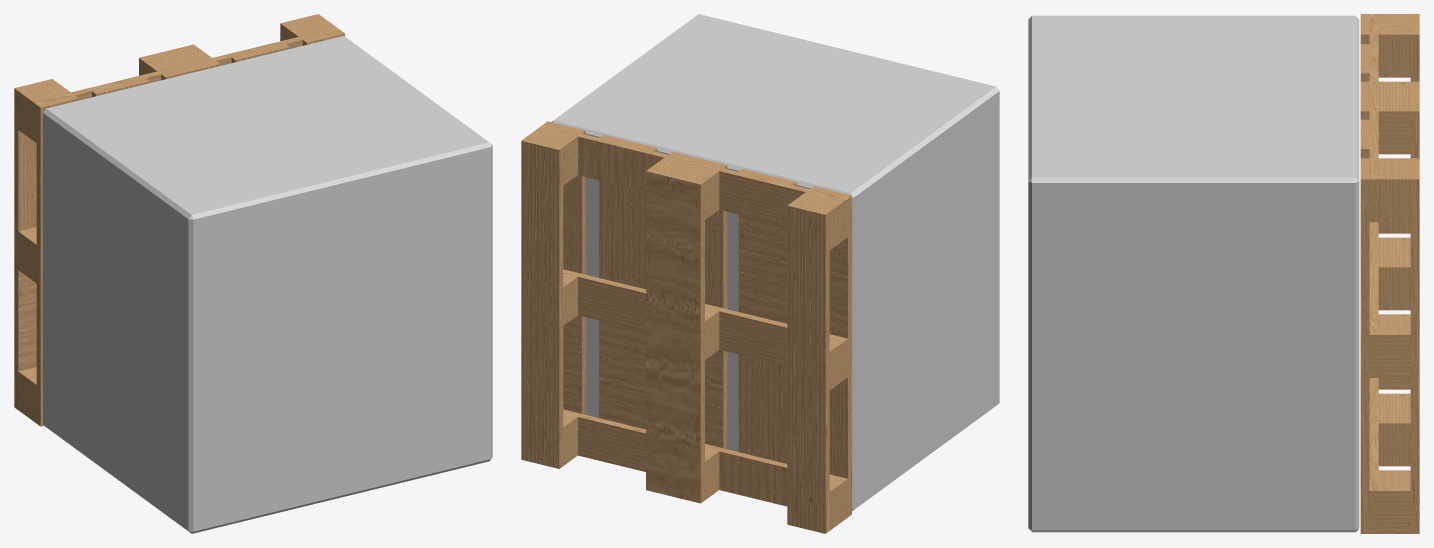
File: pallet.glb
The picture shows the model from 3 angles, left to right: view 1: azimuth 30°, elevation 25°; view 2: azimuth 150°, elevation 25°; view 3: azimuth 270°, elevation 25°; orthographic projection. The views are drawn at different scales.
Visible parts, largest first — view 1: Paper, Wood; view 2: Wood, Paper; view 3: Paper, Wood.
Part boxes in pixels (<box>): Paper: <box>43,36,492,533</box>; Wood: <box>14,14,344,426</box>; Wood: <box>521,121,851,533</box>; Paper: <box>551,14,999,510</box>; Paper: <box>1028,15,1359,532</box>; Wood: <box>1360,14,1419,533</box>.
Size of the model in its own units: 2 by 2 by 2.
2 materials, 1 textured.
